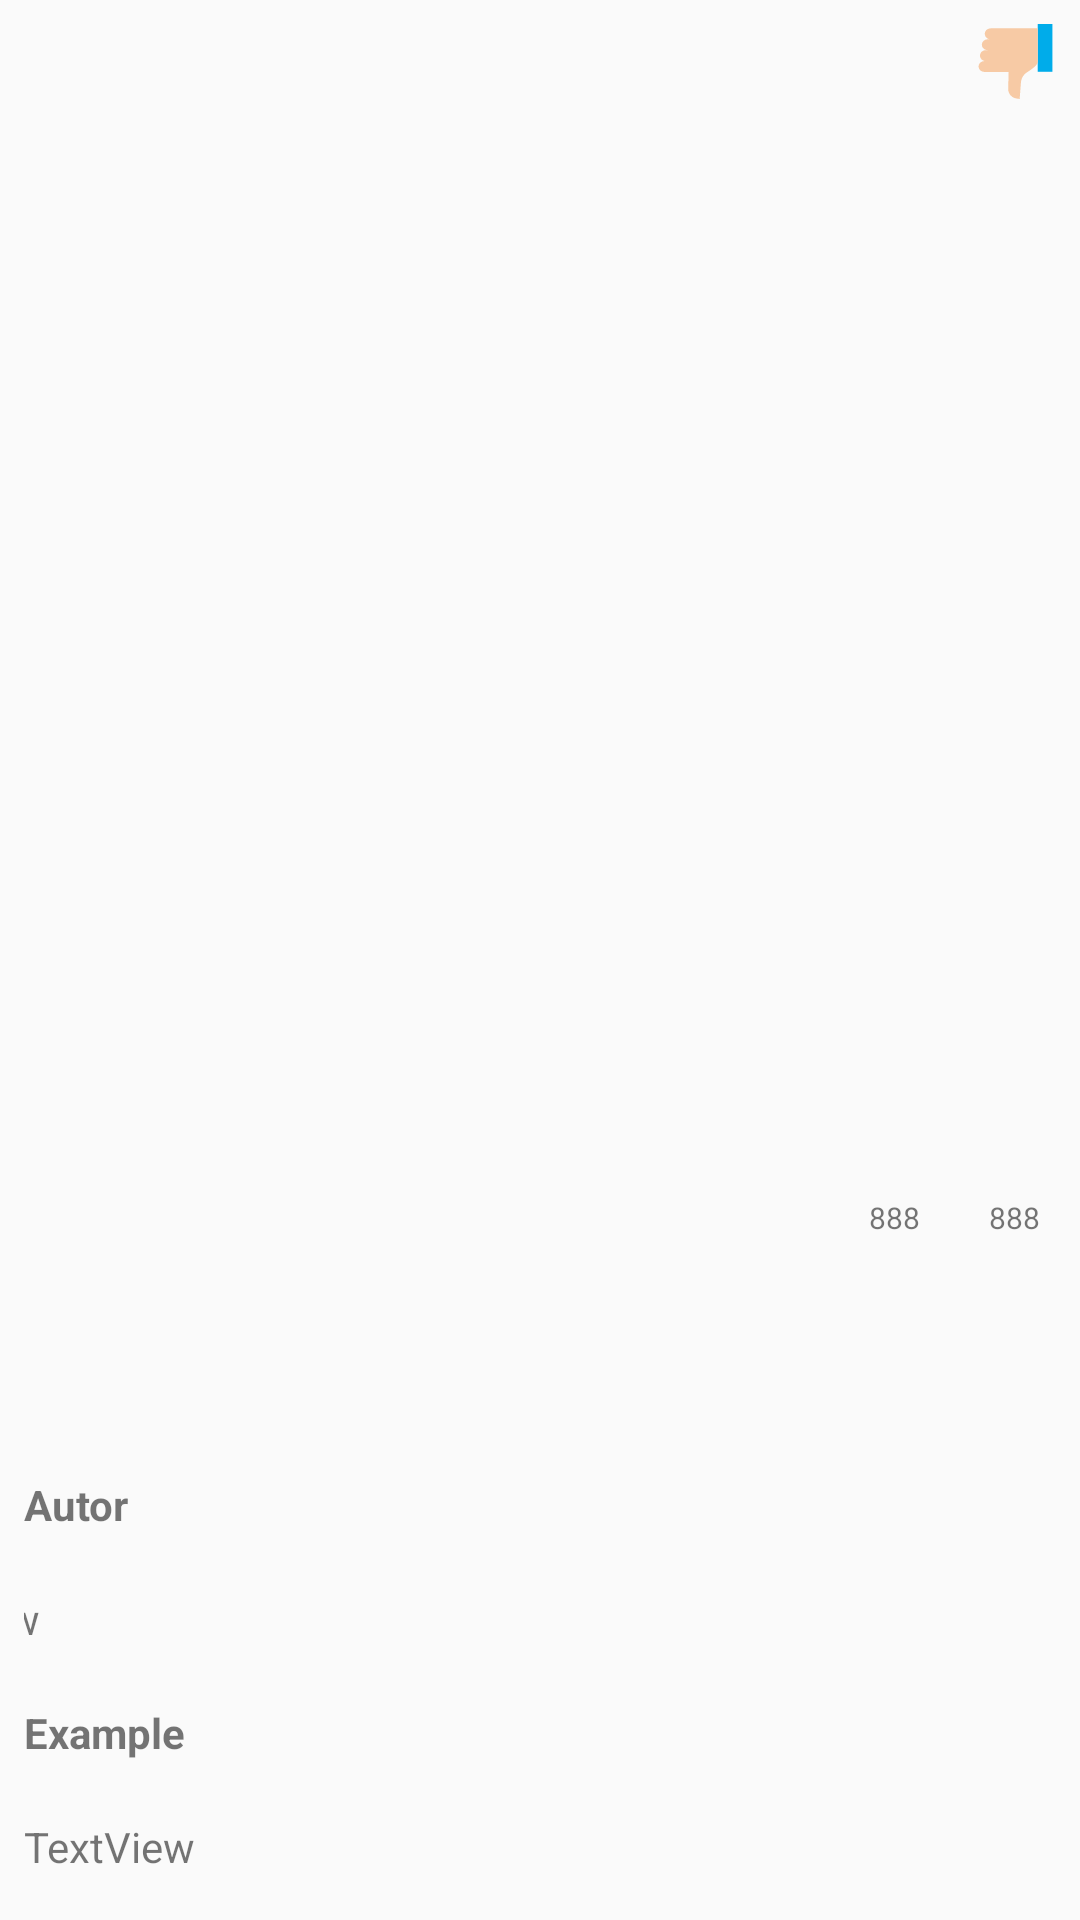

Locate icon controls on the screen. Image size 1080w x 1920h, boxes as (x1, y1, x2, y2).
dislike: (978, 24, 1053, 99)
